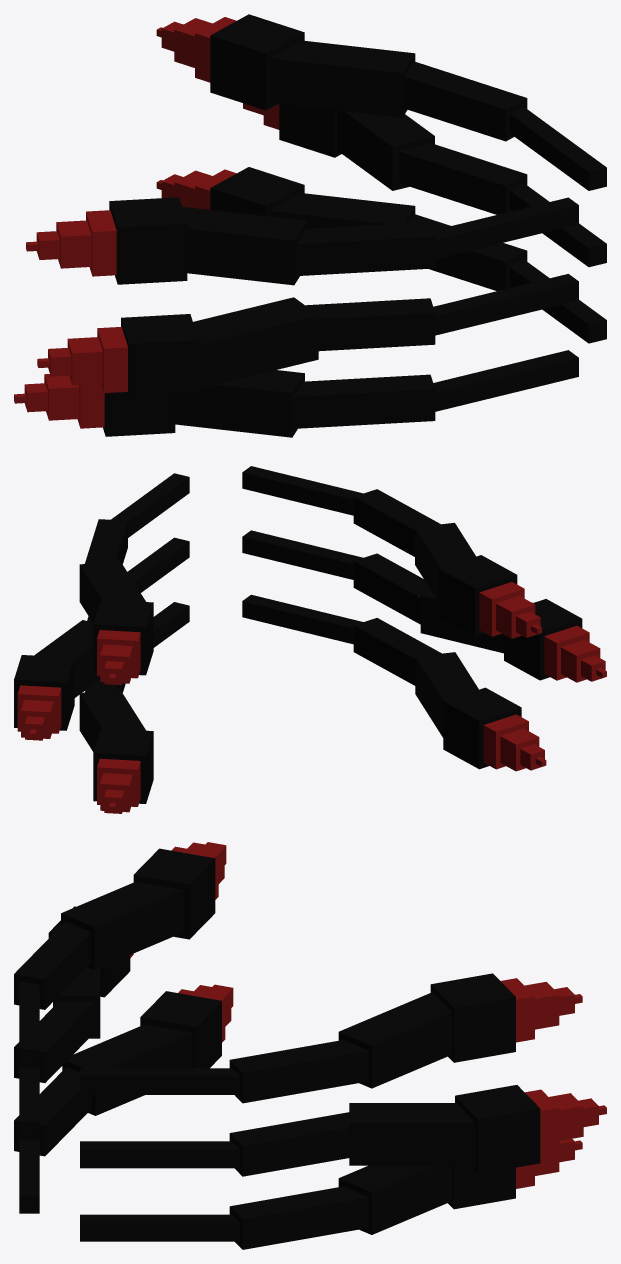
The model's file is halloween_wings_2.glb.
3 renders of one model, top to bottom at view 1: azimuth 30°, elevation 25°; view 2: azimuth 150°, elevation 25°; view 3: azimuth 270°, elevation 25°, orthographic. The views are drawn at different scales.
Visible parts, largest first — view 1: cube.021, cube.042, cube.026, cube.038, cube.025, cube.037, cube.027, cube.043, cube.041, cube.022, cube.001, cube.020 (+25 smaller); view 2: cube.027, cube.036, cube.041, cube.038, cube.025, cube.037, cube.040, cube.024, cube.039, cube.043, cube.026, cube.020 (+25 smaller); view 3: cube.007, cube.026, cube.021, cube.014, cube.022, cube.006, cube.020, cube.001, cube.008, cube.037, cube.015, cube (+16 smaller).
Boxes of the visible parts, x1,y1,x2,y2 form: cube.021: (269,40,415,117); cube.042: (193,297,318,388); cube.026: (182,206,306,285); cube.038: (294,374,435,428); cube.025: (296,222,435,276); cube.037: (175,370,304,437); cube.027: (109,197,187,284); cube.043: (121,314,198,401); cube.041: (305,298,435,351); cube.022: (404,61,527,141); cube.001: (399,143,527,214); cube.020: (210,14,304,110); cube.027: (439,555,517,636); cube.036: (443,687,521,769); cube.041: (353,553,429,624); cube.038: (353,618,441,685); cube.025: (353,489,440,556); cube.037: (415,652,478,737); cube.040: (242,530,363,579); cube.024: (242,466,363,515); cube.039: (242,594,363,644); cube.043: (504,599,582,680); cube.026: (415,522,475,602); cube.020: (93,599,153,675); cube.007: (349,1103,475,1165); cube.026: (61,881,183,969); cube.021: (338,992,451,1088); cube.014: (229,1186,368,1249); cube.022: (229,1040,368,1103); cube.006: (455,1085,540,1174); cube.020: (430,973,515,1062); cube.001: (229,1112,349,1176); cube.008: (338,1165,451,1234); cube.037: (62,1024,191,1115); cube.015: (80,1214,240,1241); cube: (80,1141,240,1168).
Size of the model in its own units: 2.81 by 1.03 by 2.75.
1 material, 1 textured.
